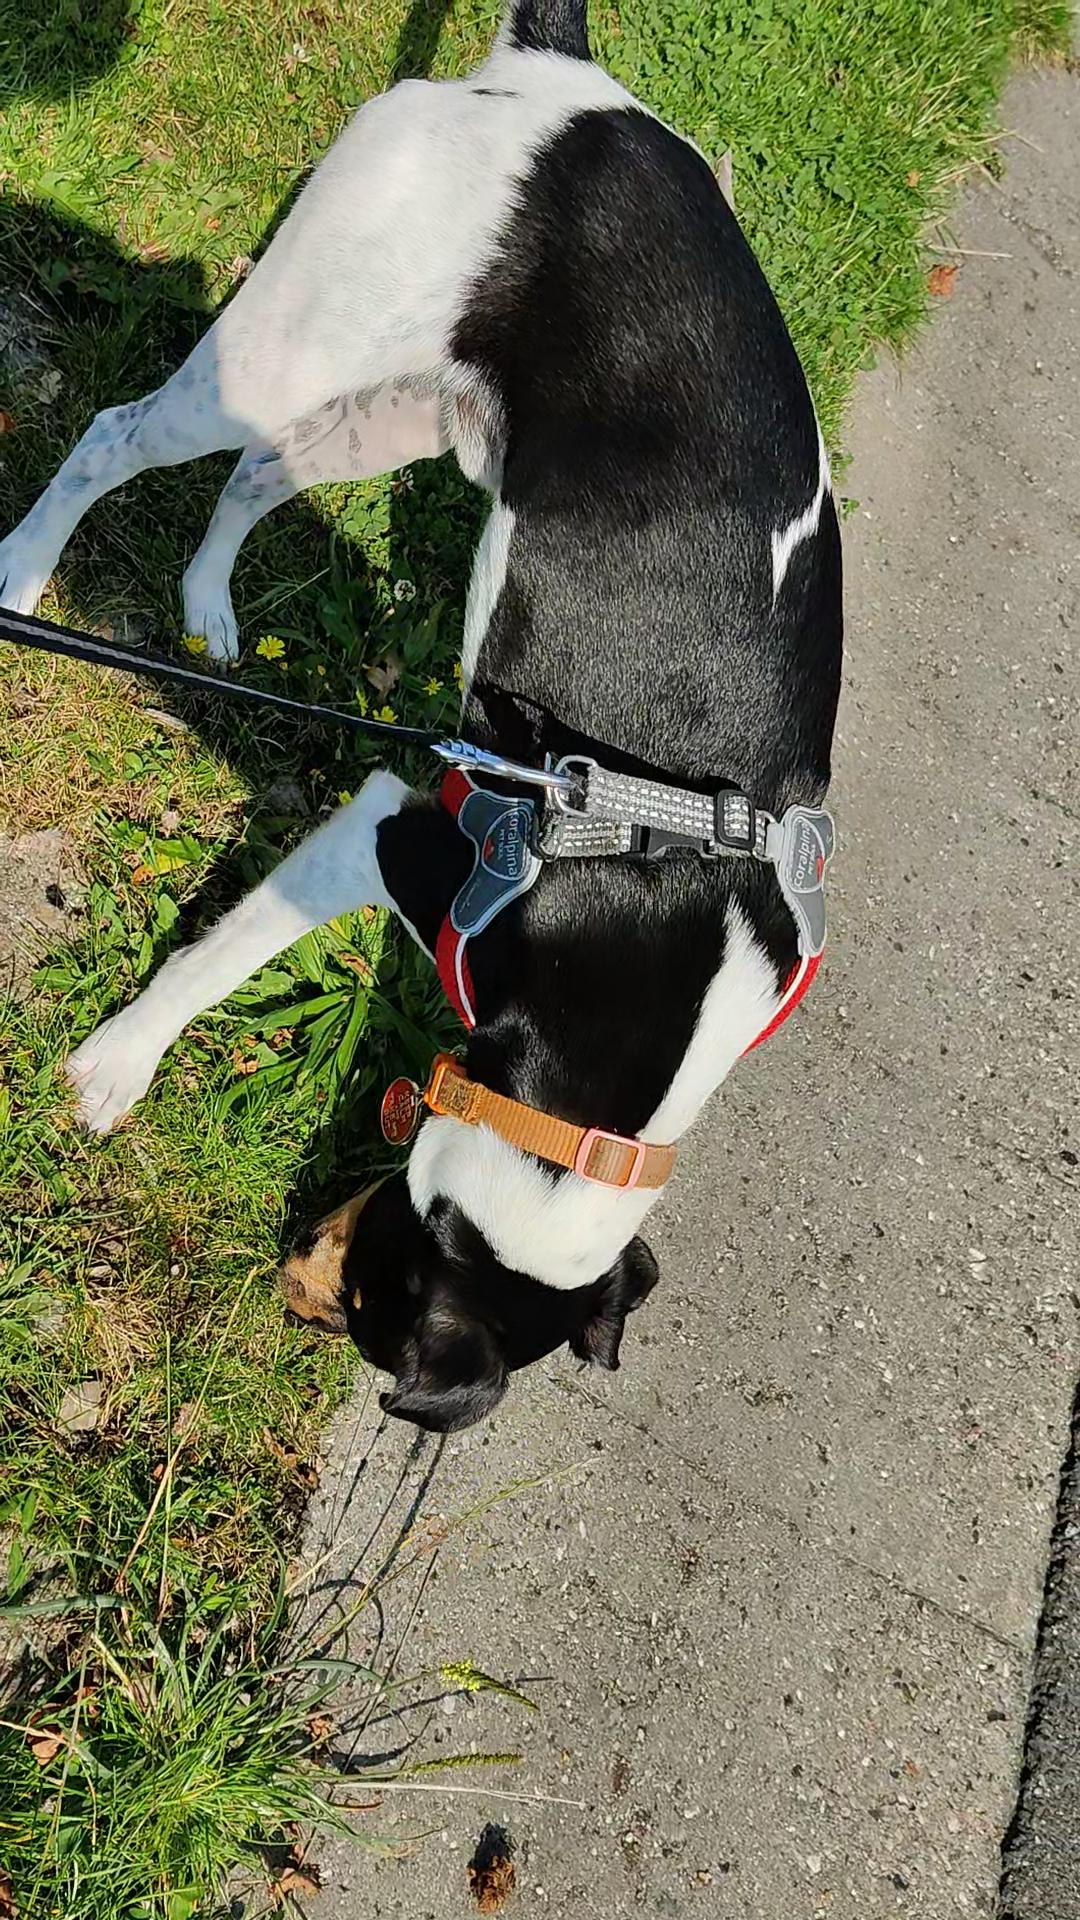Dog: (0, 0, 864, 1451)
